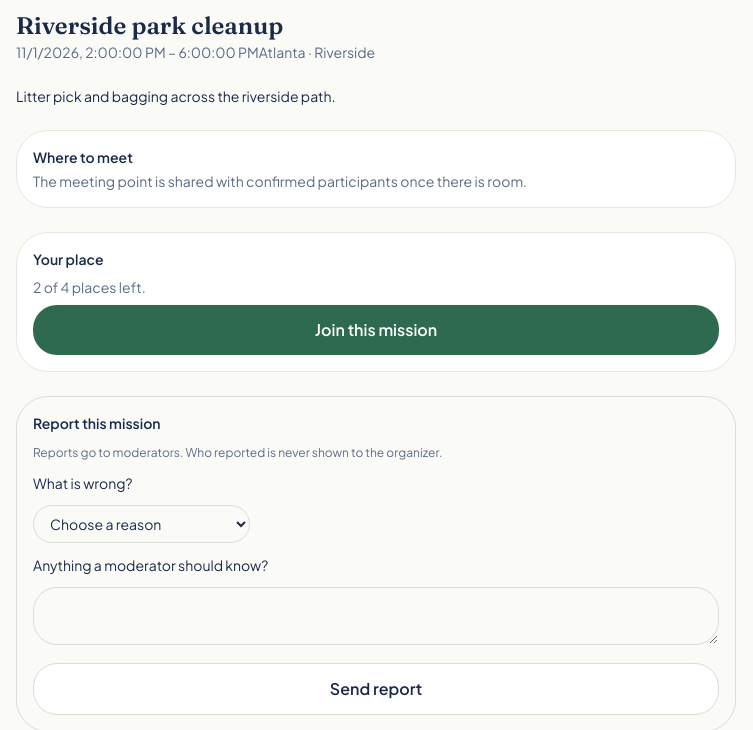
Test: MissionDetailPage › requires a report reason before sending anything
This screenshot has width=753, height=730.
Step 1. Click the button "Send report" → (376, 689), box left=33, top=663, right=719, bottom=715
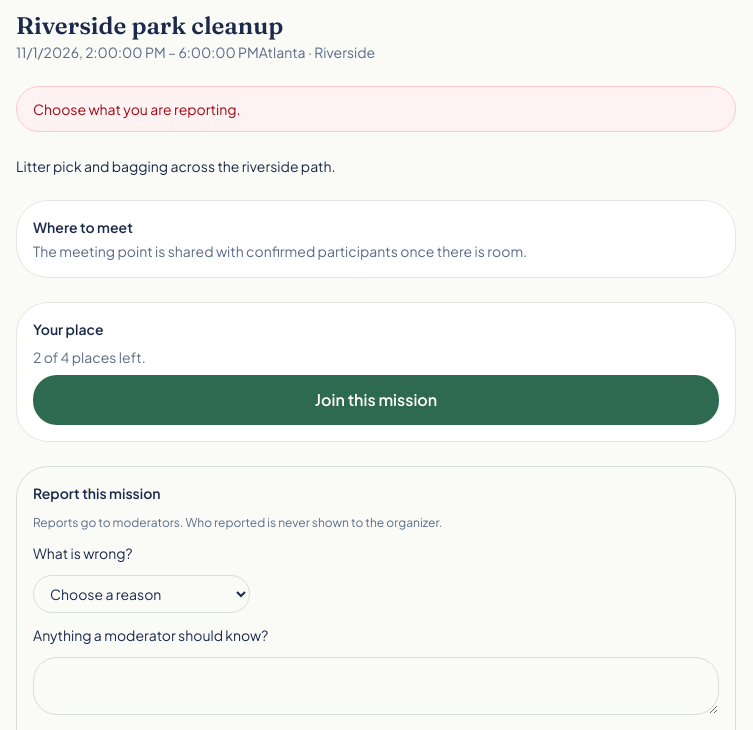
Expected: the message "Choose what you are reporting." is shown, left=16, top=86, right=736, bottom=132
